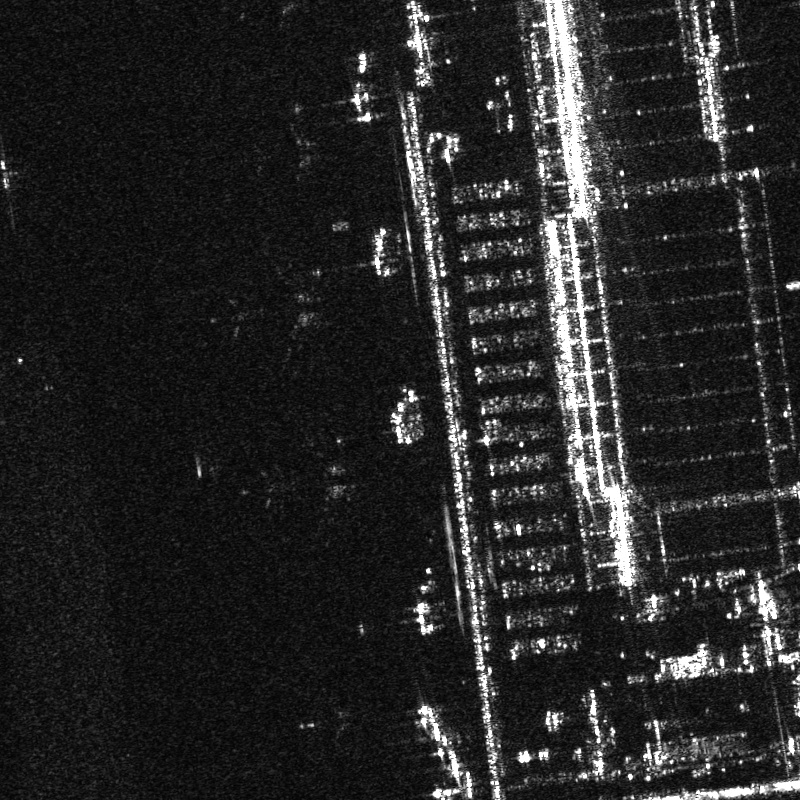Boeing787: (204, 252, 338, 377), (248, 431, 370, 539), (252, 110, 336, 182), (295, 689, 360, 749)
